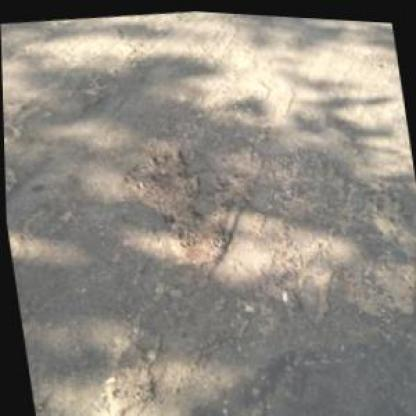pothole: (115, 142, 204, 216), (68, 359, 164, 415), (159, 206, 233, 270)
